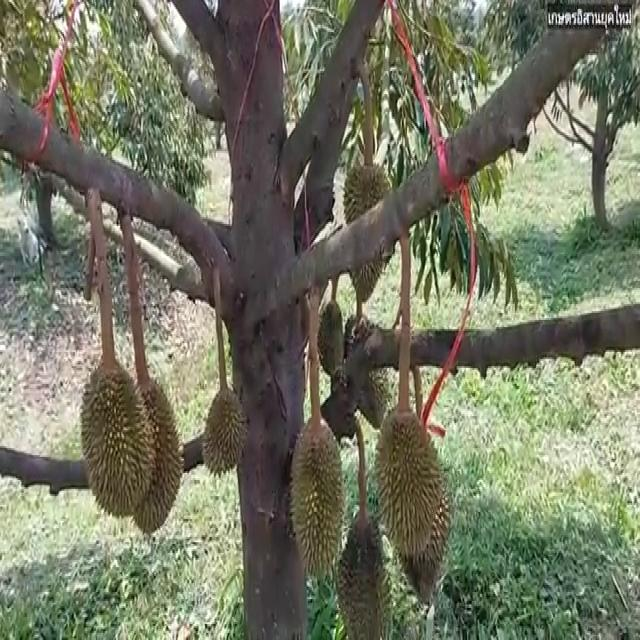durian: (79, 356, 158, 522), (374, 402, 444, 562), (124, 372, 185, 536), (288, 413, 346, 585), (335, 504, 398, 638), (342, 161, 400, 306), (344, 312, 392, 432), (198, 386, 249, 478), (314, 297, 347, 379)
